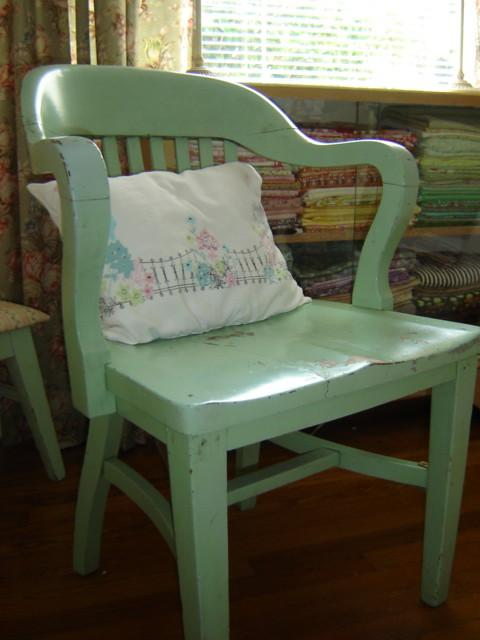chair: (20, 63, 480, 639)
